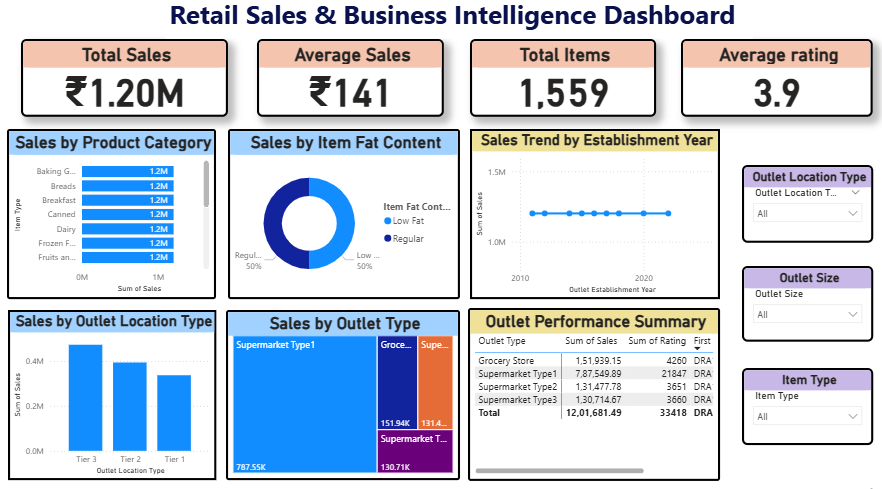

This screenshot's page, from the dashboard's own definition file:
{"tool":"powerbi","page":{"name":"Page 1","canvas":[1280,720],"ordinal":0},"visuals":[{"type":"card","title":"Total Sales","fields":{"Values":["BlinkIT Grocery Data.Total Sales"]},"box":[30.2,66.2,298.1,112.3],"z":0},{"type":"card","title":"Average Sales","fields":{"Values":["BlinkIT Grocery Data.Average Sales"]},"box":[370.1,66.2,269.3,112.3],"z":1000},{"type":"card","title":"Total Items","fields":{"Values":["BlinkIT Grocery Data.Total Items"]},"box":[676.8,66.2,267.8,112.3],"z":2000},{"type":"card","title":"Average rating","fields":{"Values":["BlinkIT Grocery Data.Average rating"]},"box":[980.6,66.2,276.5,112.3],"z":3000},{"type":"clusteredBarChart","title":"Sales by Product Category","fields":{"Category":["Table1.Item Type"],"Y":["Sum(BlinkIT Grocery Data.Sales)"]},"box":[10.1,195.8,301,244.8],"z":4000},{"type":"donutChart","title":"Sales by Item Fat Content","fields":{"Category":["BlinkIT Grocery Data.Item Fat Content"],"Y":["Sum(Table1.Sales)"]},"box":[328.3,195.8,334.1,244.8],"z":5000},{"type":"treemap","title":"Sales by Outlet Type","fields":{"Values":["Sum(BlinkIT Grocery Data.Sales)"],"Group":["BlinkIT Grocery Data.Outlet Type"]},"box":[325.4,456.5,337,244.8],"z":6000},{"type":"clusteredColumnChart","title":"Sales by Outlet Location Type","fields":{"Category":["BlinkIT Grocery Data.Outlet Location Type"],"Y":["Sum(BlinkIT Grocery Data.Sales)"]},"box":[11.5,456.5,299.5,244.8],"z":7000},{"type":"lineChart","title":"Sales Trend by Establishment Year","fields":{"Category":["Table1.Outlet Establishment Year"],"Y":["Sum(BlinkIT Grocery Data.Sales)"]},"box":[676.8,195.8,360,244.8],"z":8000},{"type":"pivotTable","title":"Outlet Performance Summary","fields":{"Rows":["BlinkIT Grocery Data.Outlet Type"],"Values":["Sum(BlinkIT Grocery Data.Sales)","Sum(BlinkIT Grocery Data.Rating)","Min(Table1.Item Identifier)"]},"box":[673.9,453.6,362.9,249.1],"z":9000},{"type":"slicer","title":"Outlet Size","fields":{"Values":["BlinkIT Grocery Data.Outlet Size"]},"box":[1068.5,393.1,188.6,109.4],"z":10000},{"type":"slicer","title":"Outlet Location Type","fields":{"Values":["BlinkIT Grocery Data.Outlet Location Type"]},"box":[1068.5,247.7,188.6,112.3],"z":11000},{"type":"slicer","title":"Item Type","fields":{"Values":["BlinkIT Grocery Data.Item Type"]},"box":[1068.5,540,188.6,110.9],"z":12000},{"type":"textbox","box":[239,0,845.3,66.2],"z":13000}]}

Visuals, with their boxes in screenshot pixels (x1, y1, x2, y2), scaled from the page's 1280x720 canvas onto the 882x489 screenshot:
"Total Sales" card: bbox(21, 45, 226, 121)
"Average Sales" card: bbox(255, 45, 441, 121)
"Total Items" card: bbox(466, 45, 651, 121)
"Average rating" card: bbox(676, 45, 866, 121)
"Sales by Product Category" clusteredBarChart: bbox(7, 133, 214, 299)
"Sales by Item Fat Content" donutChart: bbox(226, 133, 456, 299)
"Sales by Outlet Type" treemap: bbox(224, 310, 456, 476)
"Sales by Outlet Location Type" clusteredColumnChart: bbox(8, 310, 214, 476)
"Sales Trend by Establishment Year" lineChart: bbox(466, 133, 714, 299)
"Outlet Performance Summary" pivotTable: bbox(464, 308, 714, 477)
"Outlet Size" slicer: bbox(736, 267, 866, 341)
"Outlet Location Type" slicer: bbox(736, 168, 866, 244)
"Item Type" slicer: bbox(736, 367, 866, 442)
textbox: bbox(165, 0, 747, 45)
